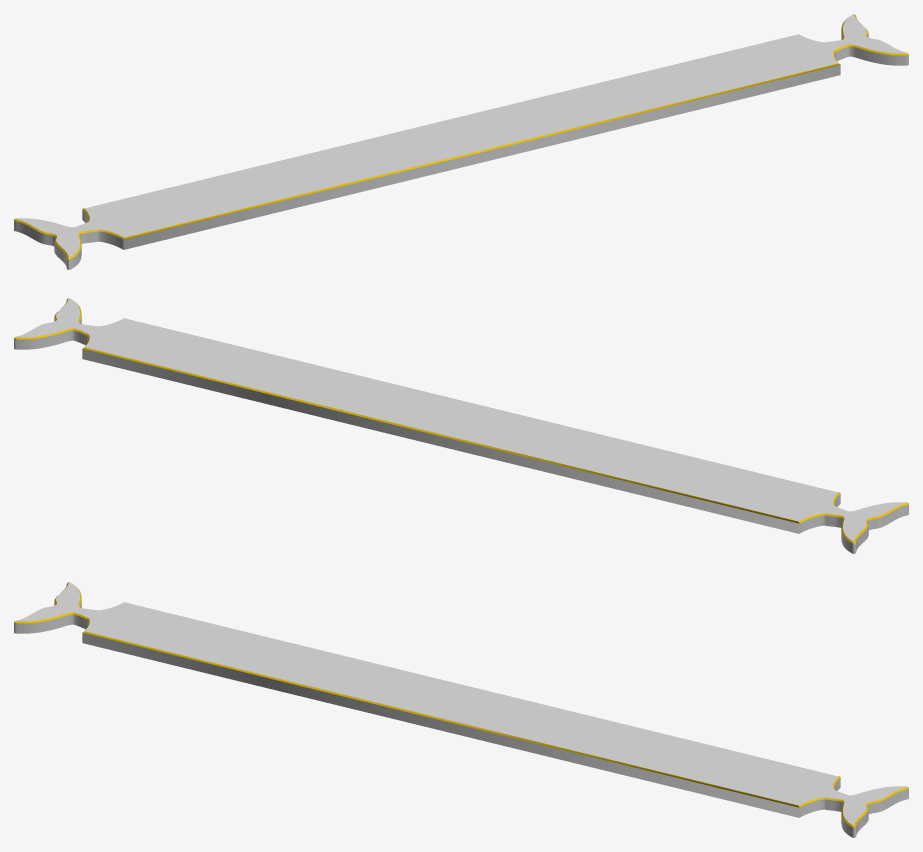
File: The Captain Ahab .glb
3 renders of one model, top to bottom at view 1: azimuth 30°, elevation 25°; view 2: azimuth 150°, elevation 25°; view 3: azimuth 330°, elevation 25°, orthographic.
Visible parts, largest first — view 1: BORDERS_curve_.029, BORDERS_curve_.011; view 2: BORDERS_curve_.029, BORDERS_curve_.011; view 3: BORDERS_curve_.029, BORDERS_curve_.011.
Boxes of the visible parts, bbox=[...] form: BORDERS_curve_.029: bbox=[14, 14, 908, 269]; BORDERS_curve_.011: bbox=[14, 14, 908, 259]; BORDERS_curve_.029: bbox=[14, 298, 908, 553]; BORDERS_curve_.011: bbox=[14, 298, 908, 543]; BORDERS_curve_.029: bbox=[14, 582, 908, 837]; BORDERS_curve_.011: bbox=[14, 582, 908, 827].
Size of the model in its own units: 40 by 0.5281 by 4.52.
